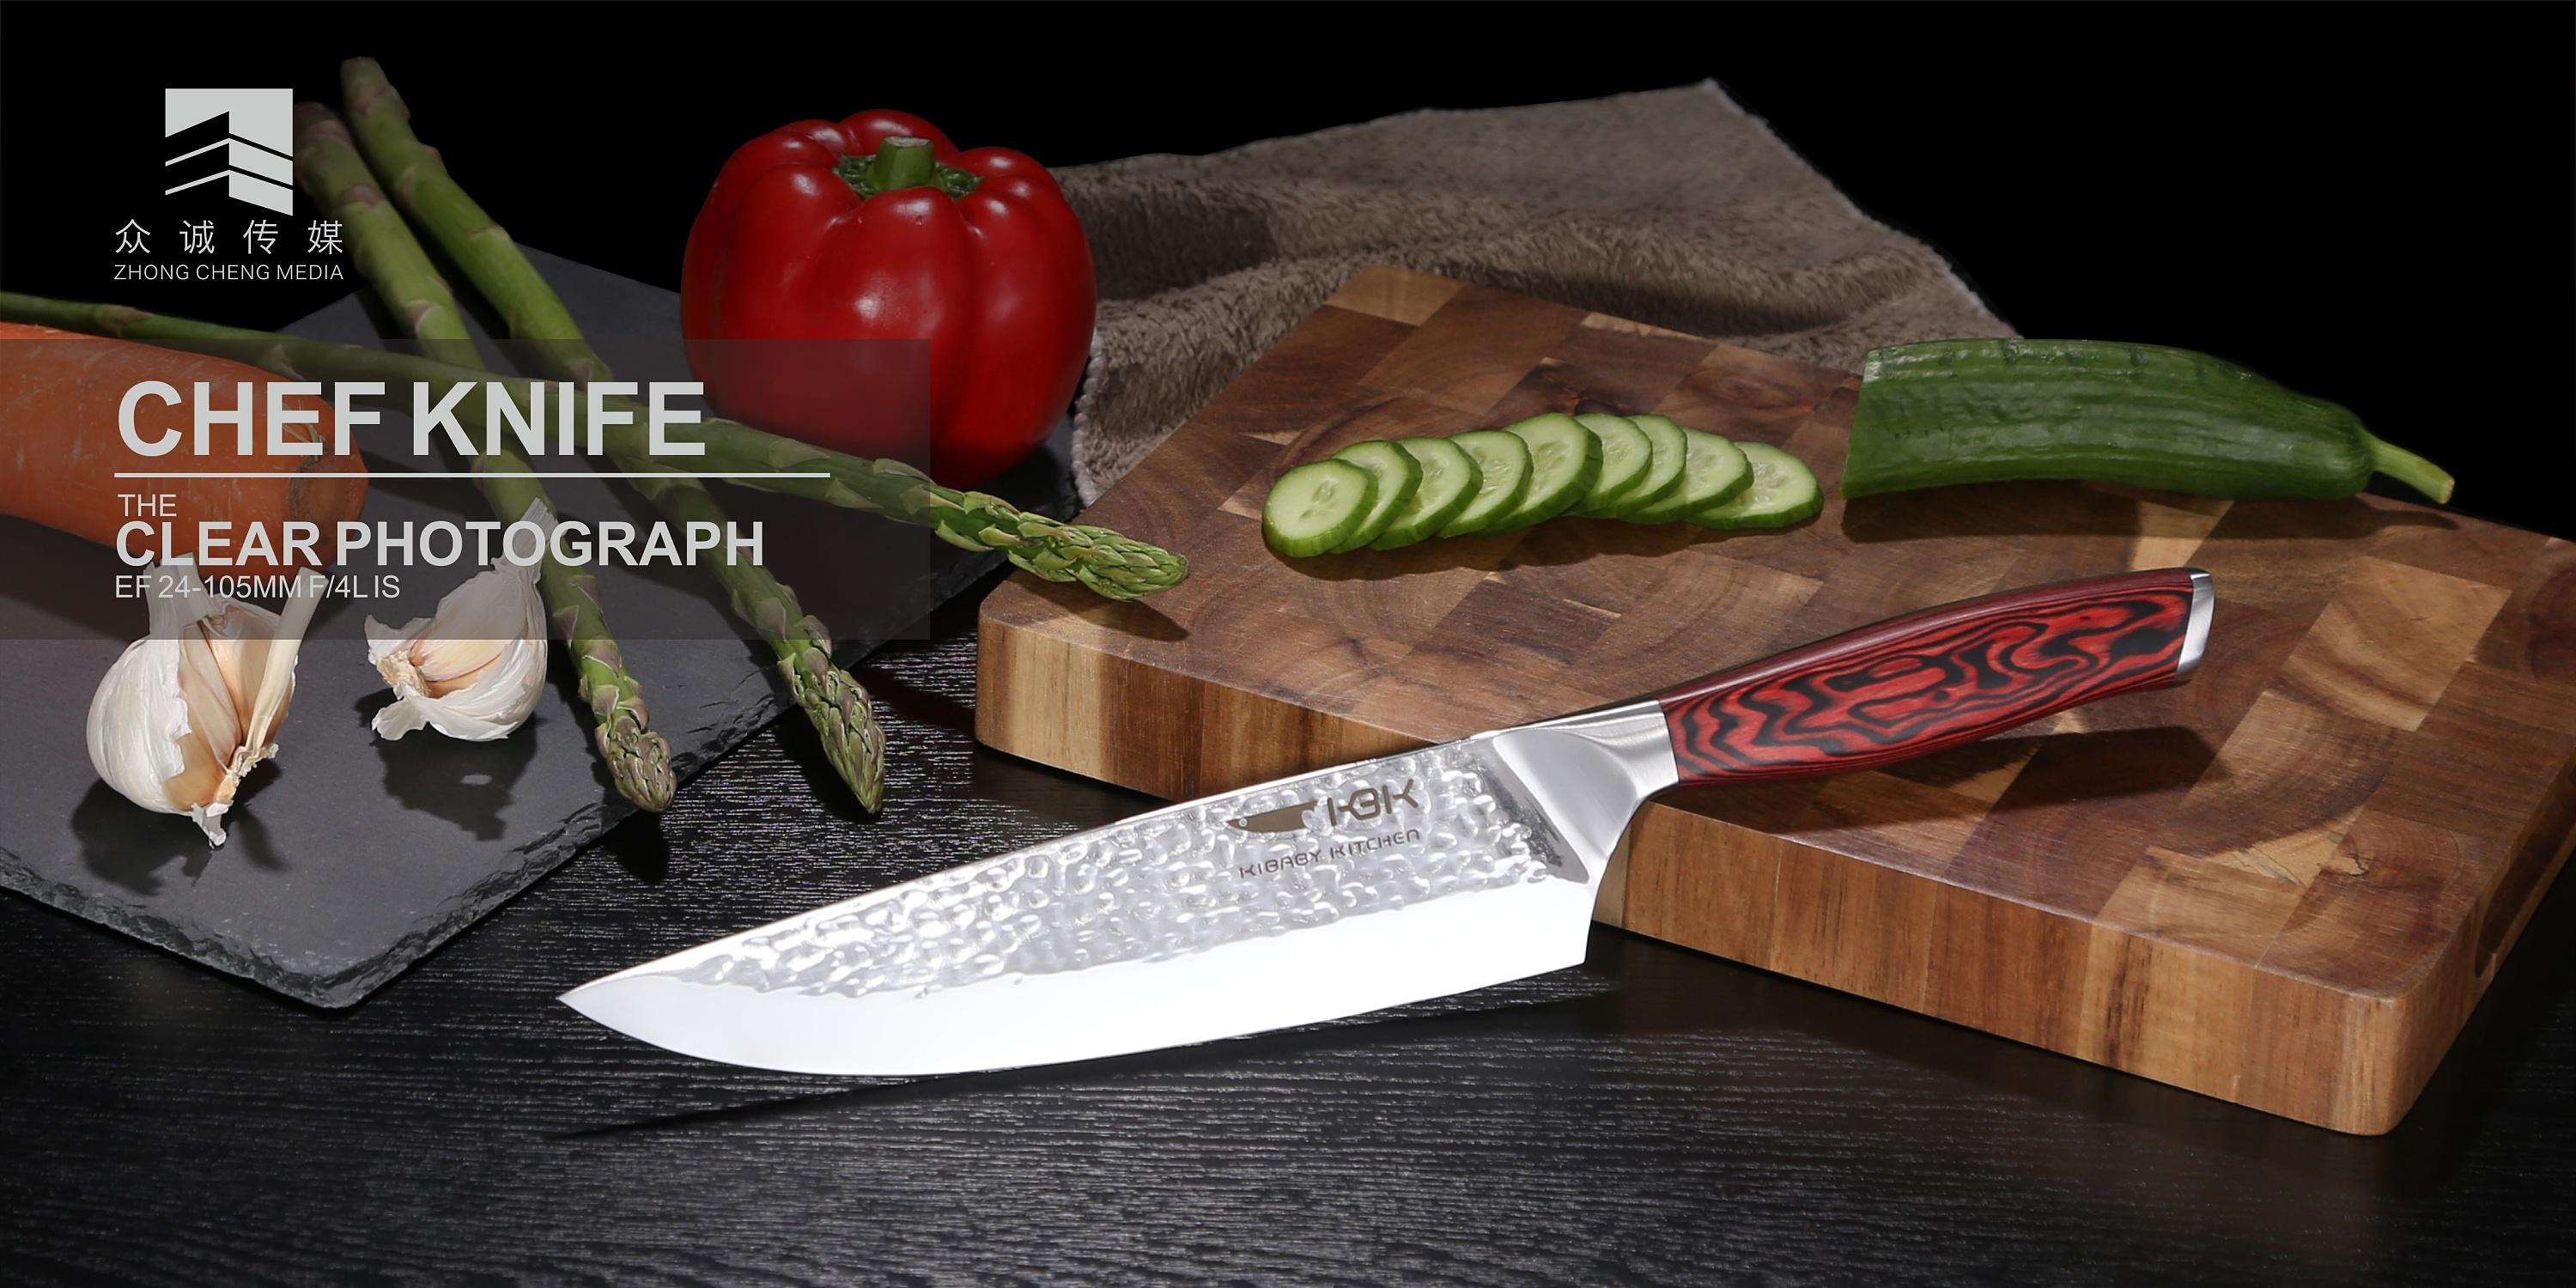knife: (296, 467, 2380, 1140)
